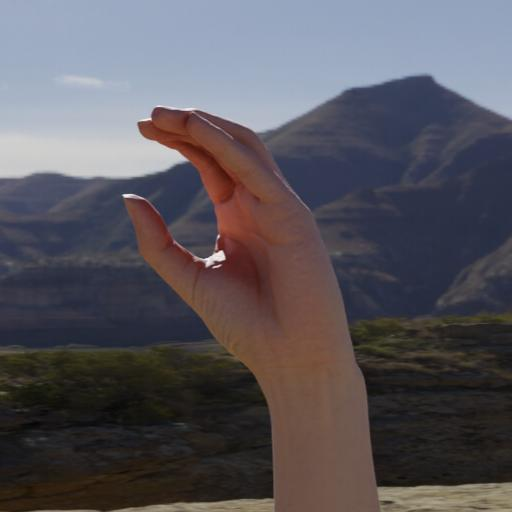C: (106, 104, 378, 358)
